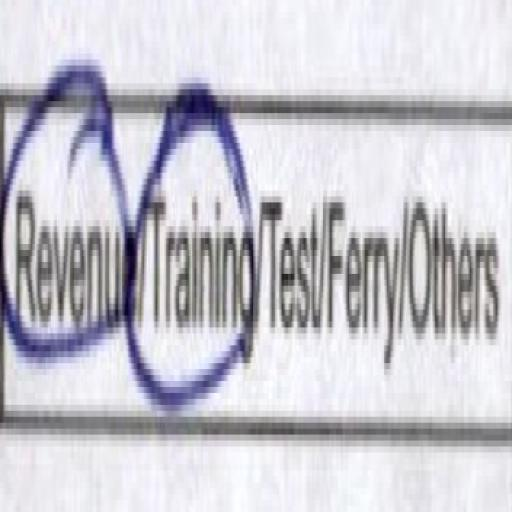check: (0, 14, 138, 511), (140, 14, 258, 512)
